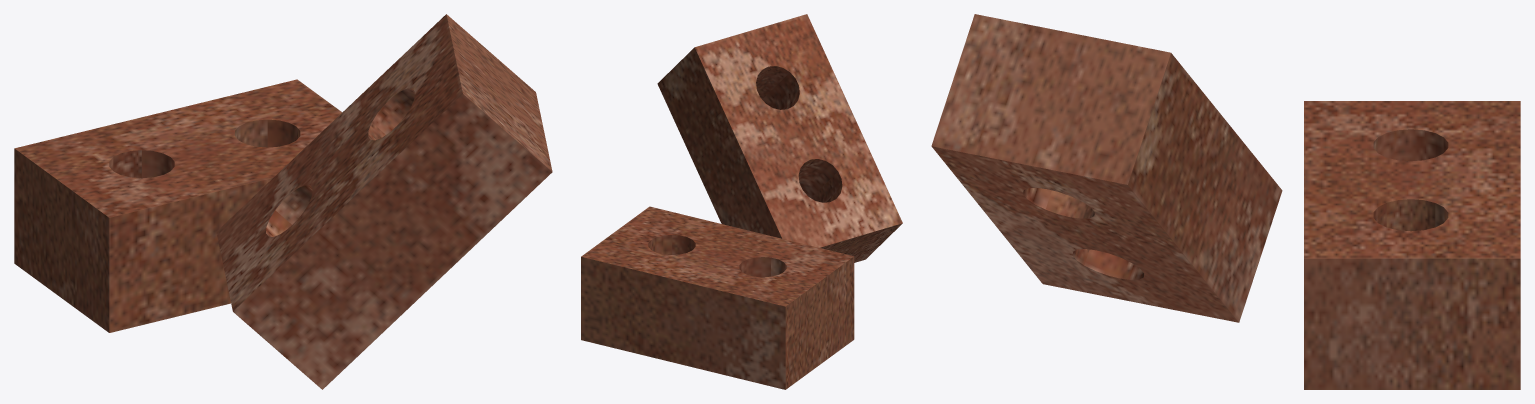
The model's file is HallwayPart_Brick.fbx.
The picture shows the model from 3 angles, left to right: view 1: azimuth 30°, elevation 25°; view 2: azimuth 150°, elevation 25°; view 3: azimuth 270°, elevation 25°; orthographic projection. The views are drawn at different scales.
Visible parts, largest first — view 1: Brick001, Brick002; view 2: Brick002, Brick001; view 3: Brick001, Brick002.
Part boxes in pixels (x1,y1,x2,y2): Brick001: (216, 14, 552, 389); Brick002: (14, 79, 341, 332); Brick002: (581, 206, 854, 389); Brick001: (657, 14, 902, 262); Brick001: (931, 14, 1282, 322); Brick002: (1304, 101, 1520, 389).
Size of the model in its own units: 3.95 by 3.17 by 5.06.
